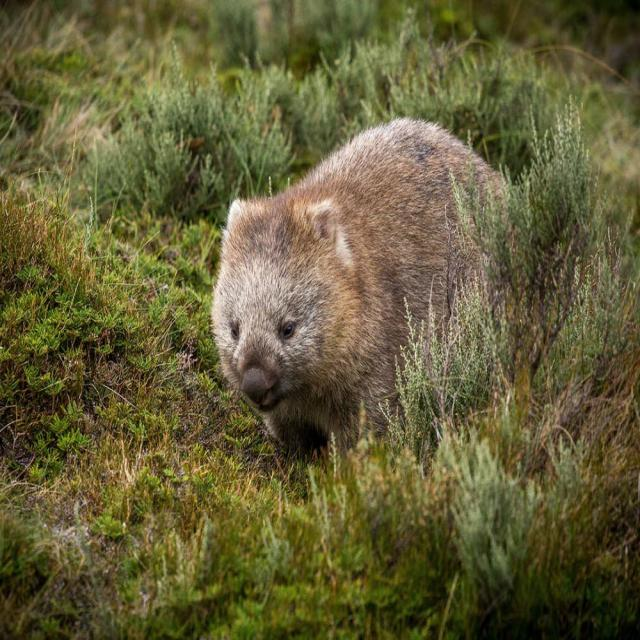wombats: (211, 117, 500, 452)
